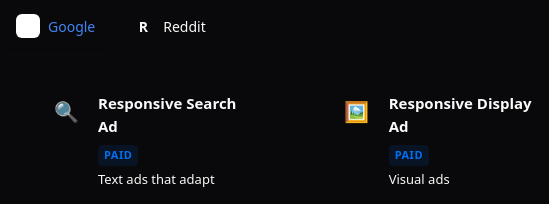
AdTypeSelector › Tab Navigation › switches to different platform when tab is clicked
expect the heading "Responsive Search Ad" is shown: met, box [98,92,255,137]
Note: Click Reddit tab
Click the tab "R Reddit" at (169, 26), box [115,4,222,48]
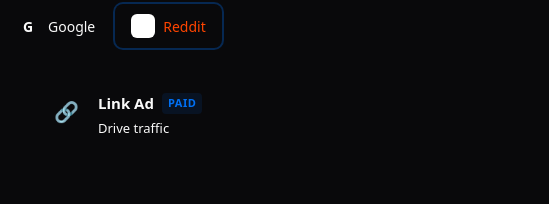
expect the heading "Link Ad" is shown: met, box [98,92,154,114]
